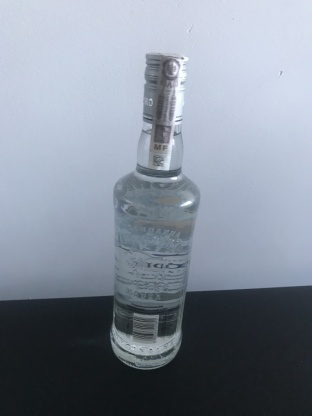nakretka: (140, 48, 190, 127)
